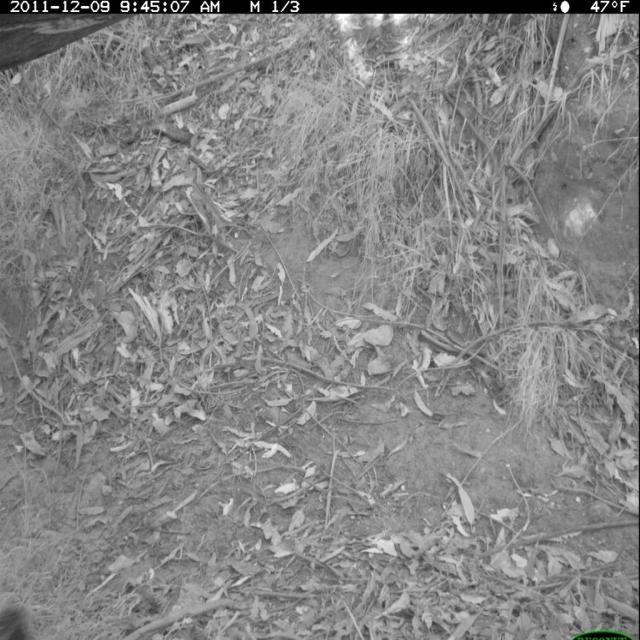bird: (1, 597, 39, 640)
